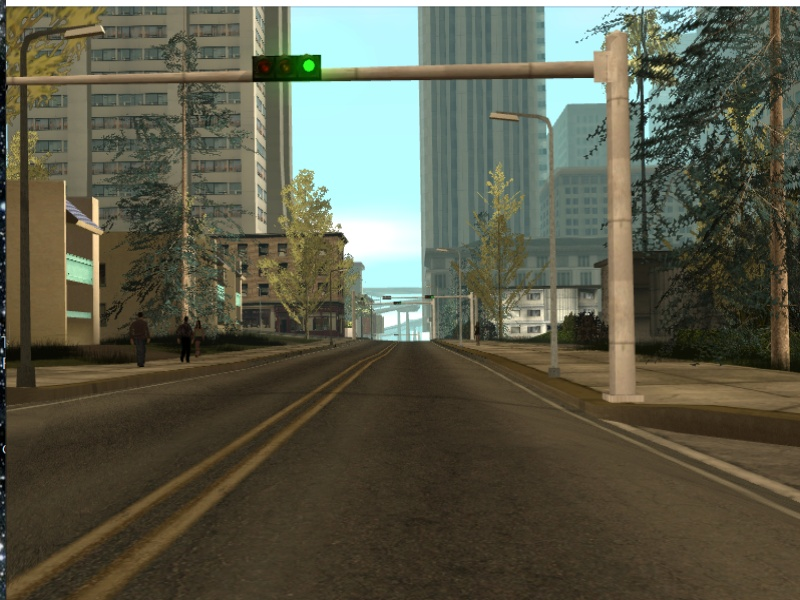person: (127, 312, 152, 369), (176, 316, 194, 366), (195, 315, 203, 351)
pole: (596, 40, 647, 408), (15, 40, 37, 392), (542, 115, 562, 375), (326, 269, 336, 350), (455, 251, 463, 351), (467, 295, 476, 344), (429, 296, 437, 342), (351, 292, 358, 343)
